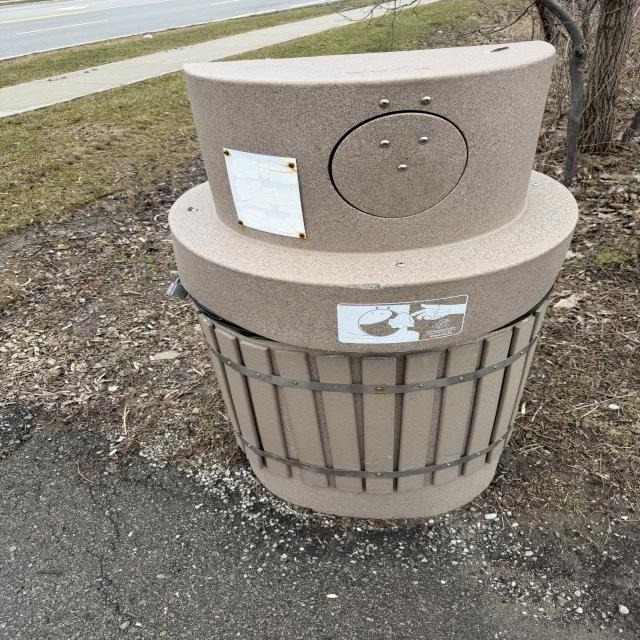Dustbin: (162, 40, 580, 524)
